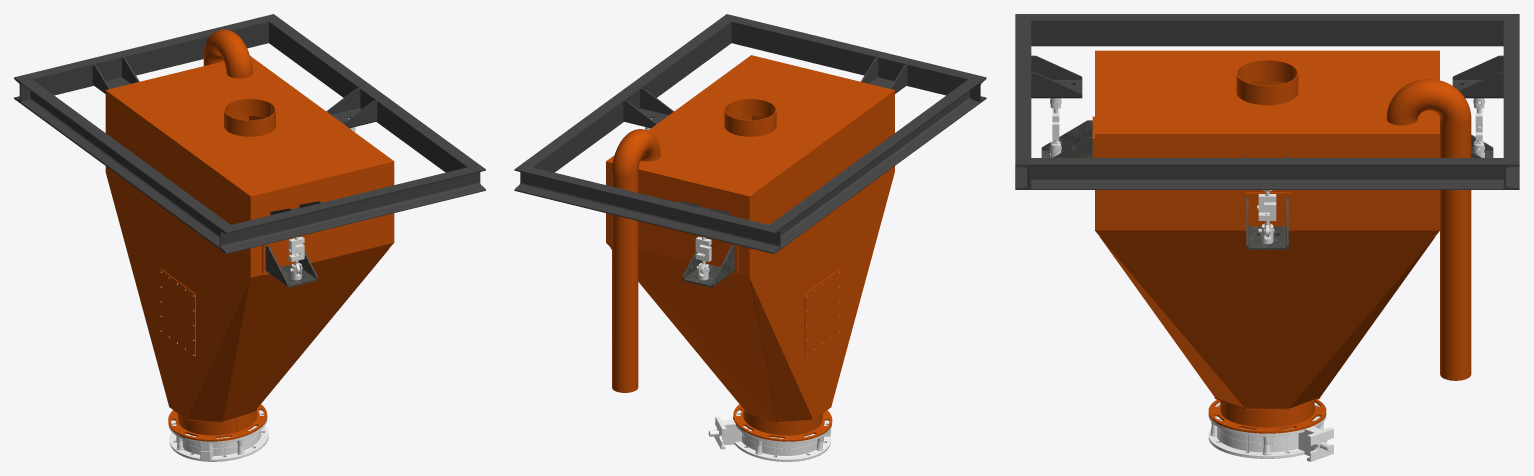
The model's file is (ДЗК-300_С1) Бункер цемента 300л. (В сборі).glb.
3 renders of one model, left to right at view 1: azimuth 30°, elevation 25°; view 2: azimuth 150°, elevation 25°; view 3: azimuth 270°, elevation 25°, orthographic. The views are drawn at different scales.
Parts seen in each view (by area): view 1: Solid1 (×15), Solid4, Твердое тело1 (×2); view 2: Solid1 (×16), Solid4, Твердое тело1 (×2); view 3: Solid1 (×19), Твердое тело1 (×2).
Boxes of the visible parts, x1,y1,x2,y2 form: Solid1 (×15): (14,14,485,441); Solid4: (105,91,251,418); Твердое тело1 (×2): (168,410,268,461); Solid1 (×16): (514,14,986,441); Solid4: (749,91,894,419); Твердое тело1 (×2): (714,410,831,461); Solid1 (×19): (1015,14,1519,433); Твердое тело1 (×2): (1208,402,1333,461).
Size of the model in its own units: 1.01 by 1.27 by 1.43.
11 materials, 1 textured.
